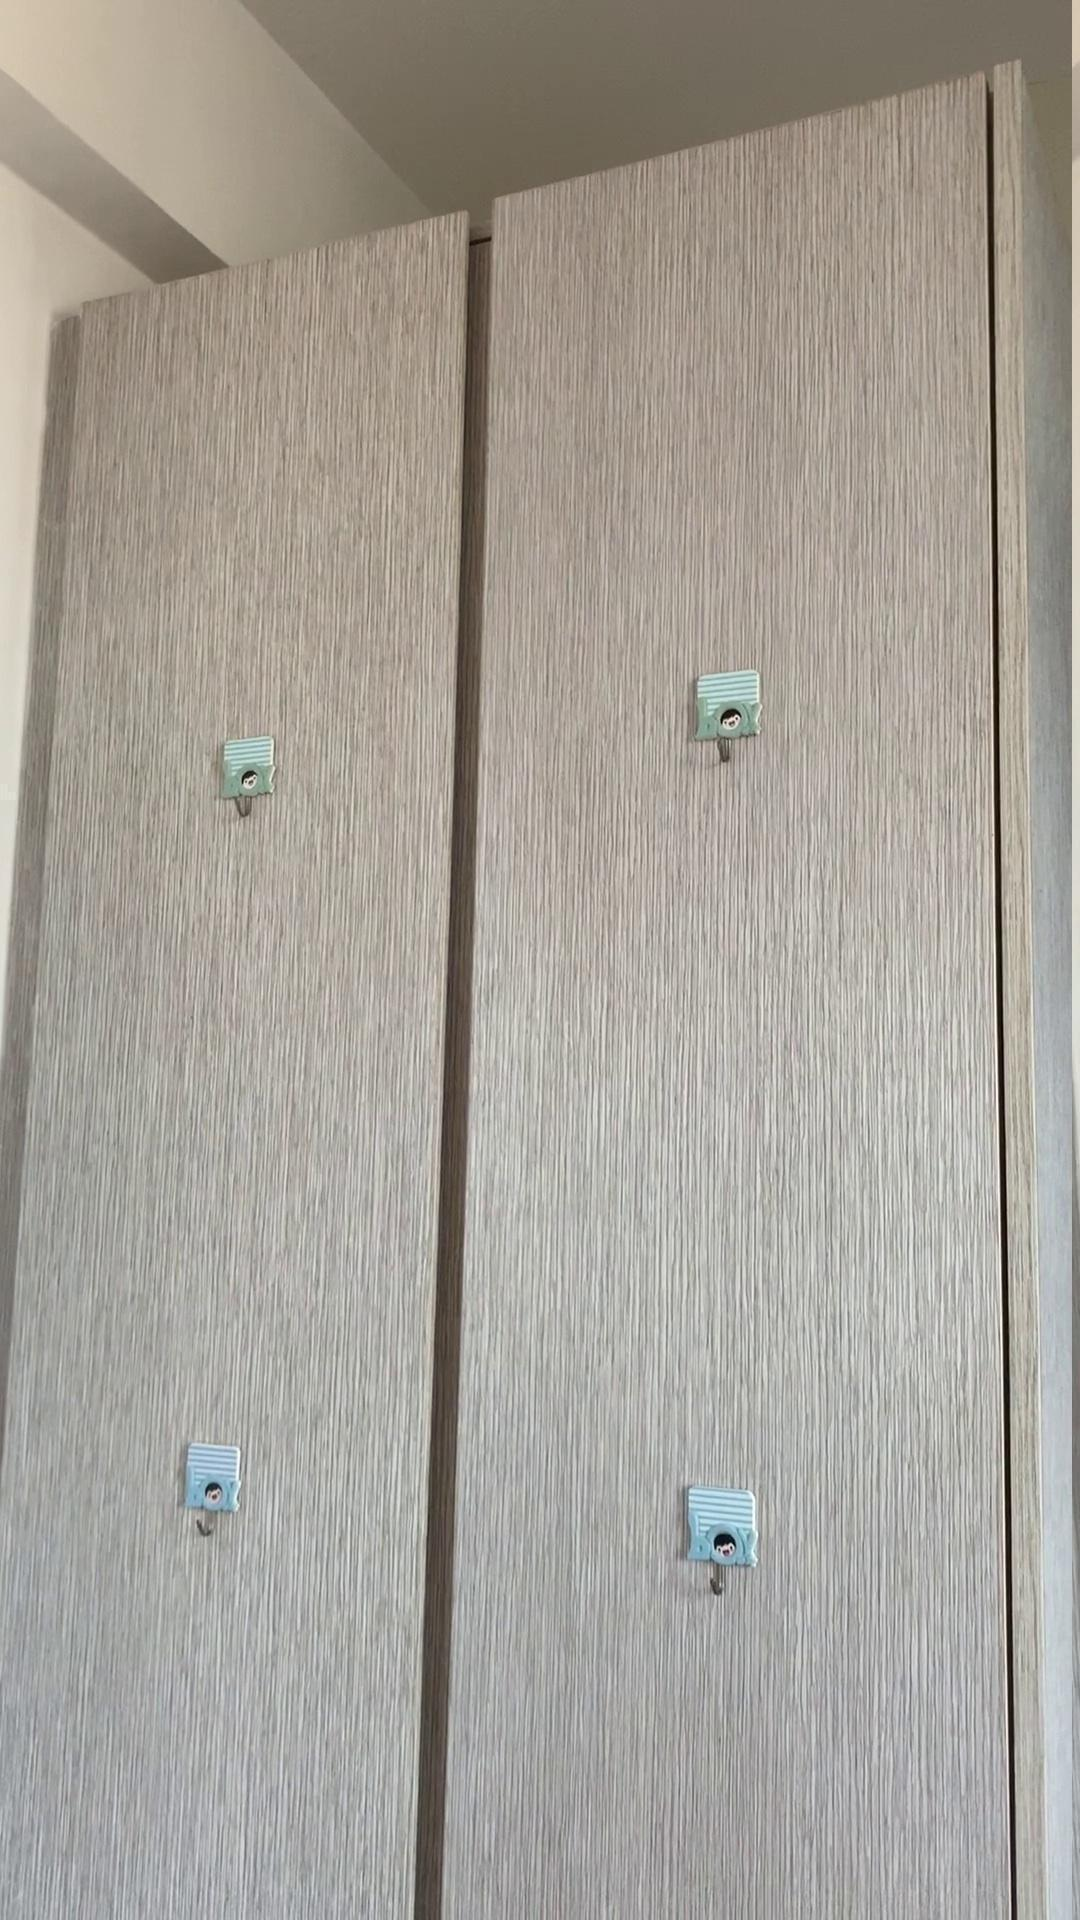Armario: (55, 102, 1067, 1905)
